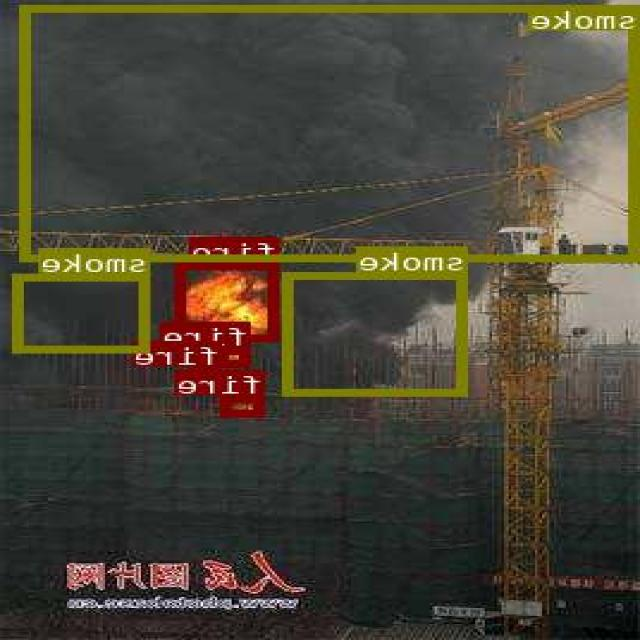fire: (179, 262, 281, 340), (223, 394, 267, 415), (220, 347, 252, 366), (194, 365, 224, 385)
smoke: (24, 4, 640, 260), (286, 272, 468, 395), (16, 273, 152, 352)
